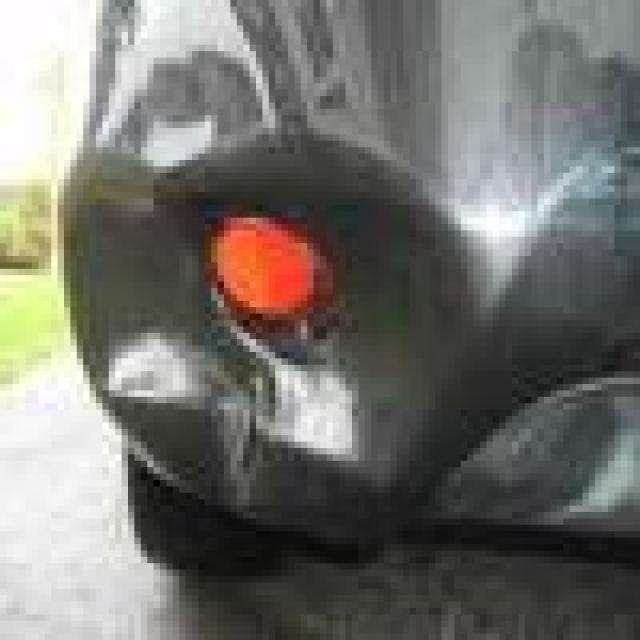minor: (97, 143, 526, 494)
